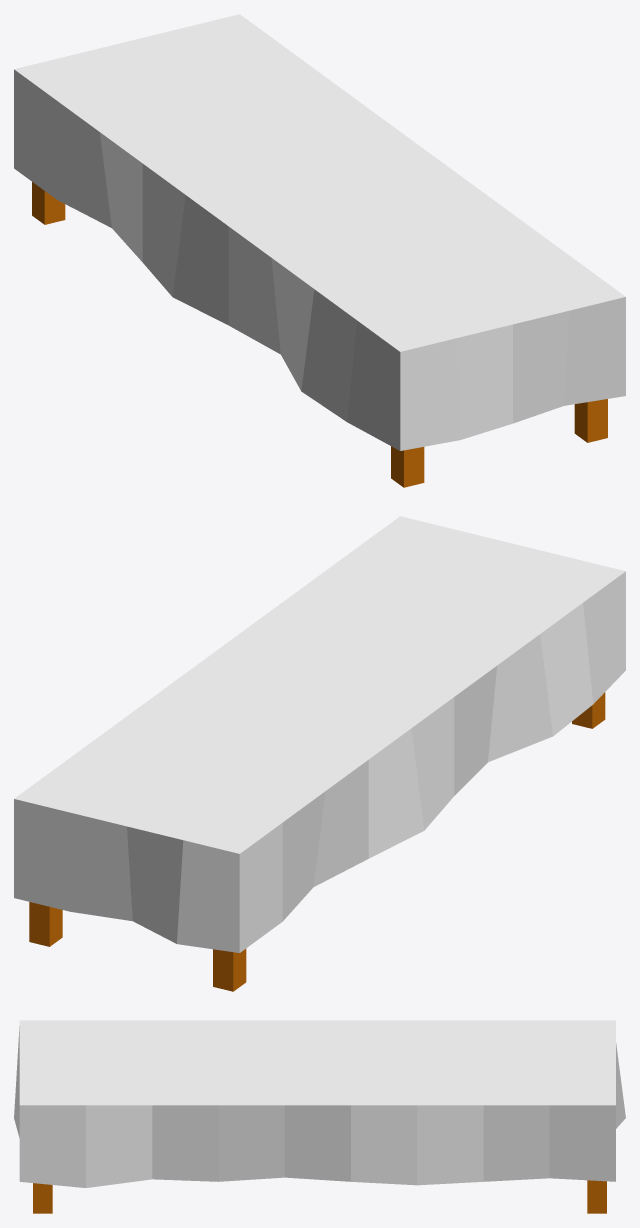
Rendered from family_table.fbx.
3 views of the same model, one above another, from view 1: azimuth 30°, elevation 25°; view 2: azimuth 150°, elevation 25°; view 3: azimuth 270°, elevation 25° (orthographic). The views are drawn at different scales.
Visible parts, largest first — view 1: Cube; view 2: Cube; view 3: Cube.
Part boxes in pixels (<box>): Cube: <box>14,14,625,487</box>; Cube: <box>14,516,625,991</box>; Cube: <box>14,1020,625,1213</box>.
Bounding box in the file's own units: 1011 × 548 × 2715.
